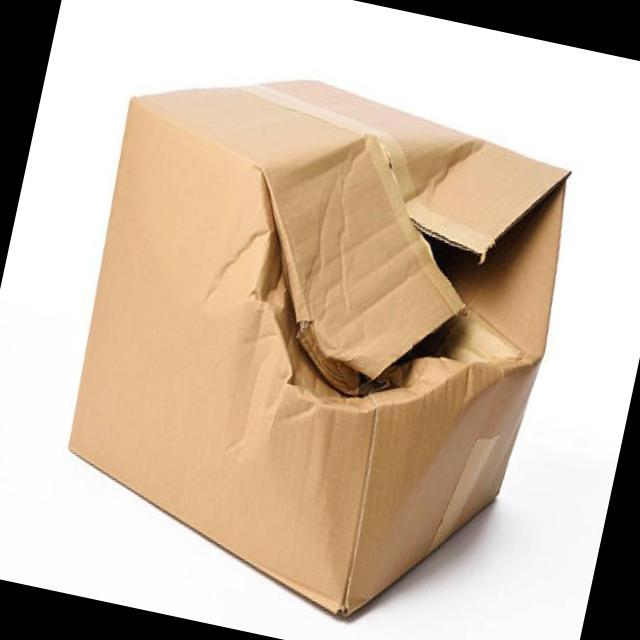box: (66, 78, 573, 622)
crushed: (242, 136, 572, 526)
tear: (254, 173, 569, 415)
